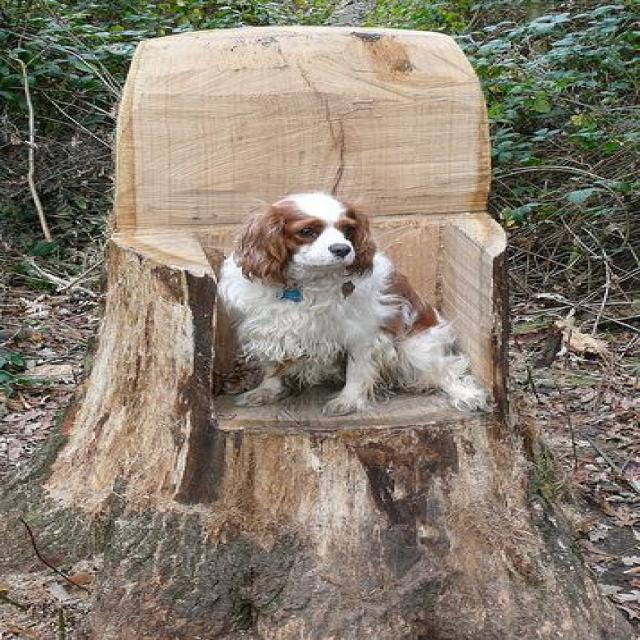sitting: (221, 187, 494, 419)
